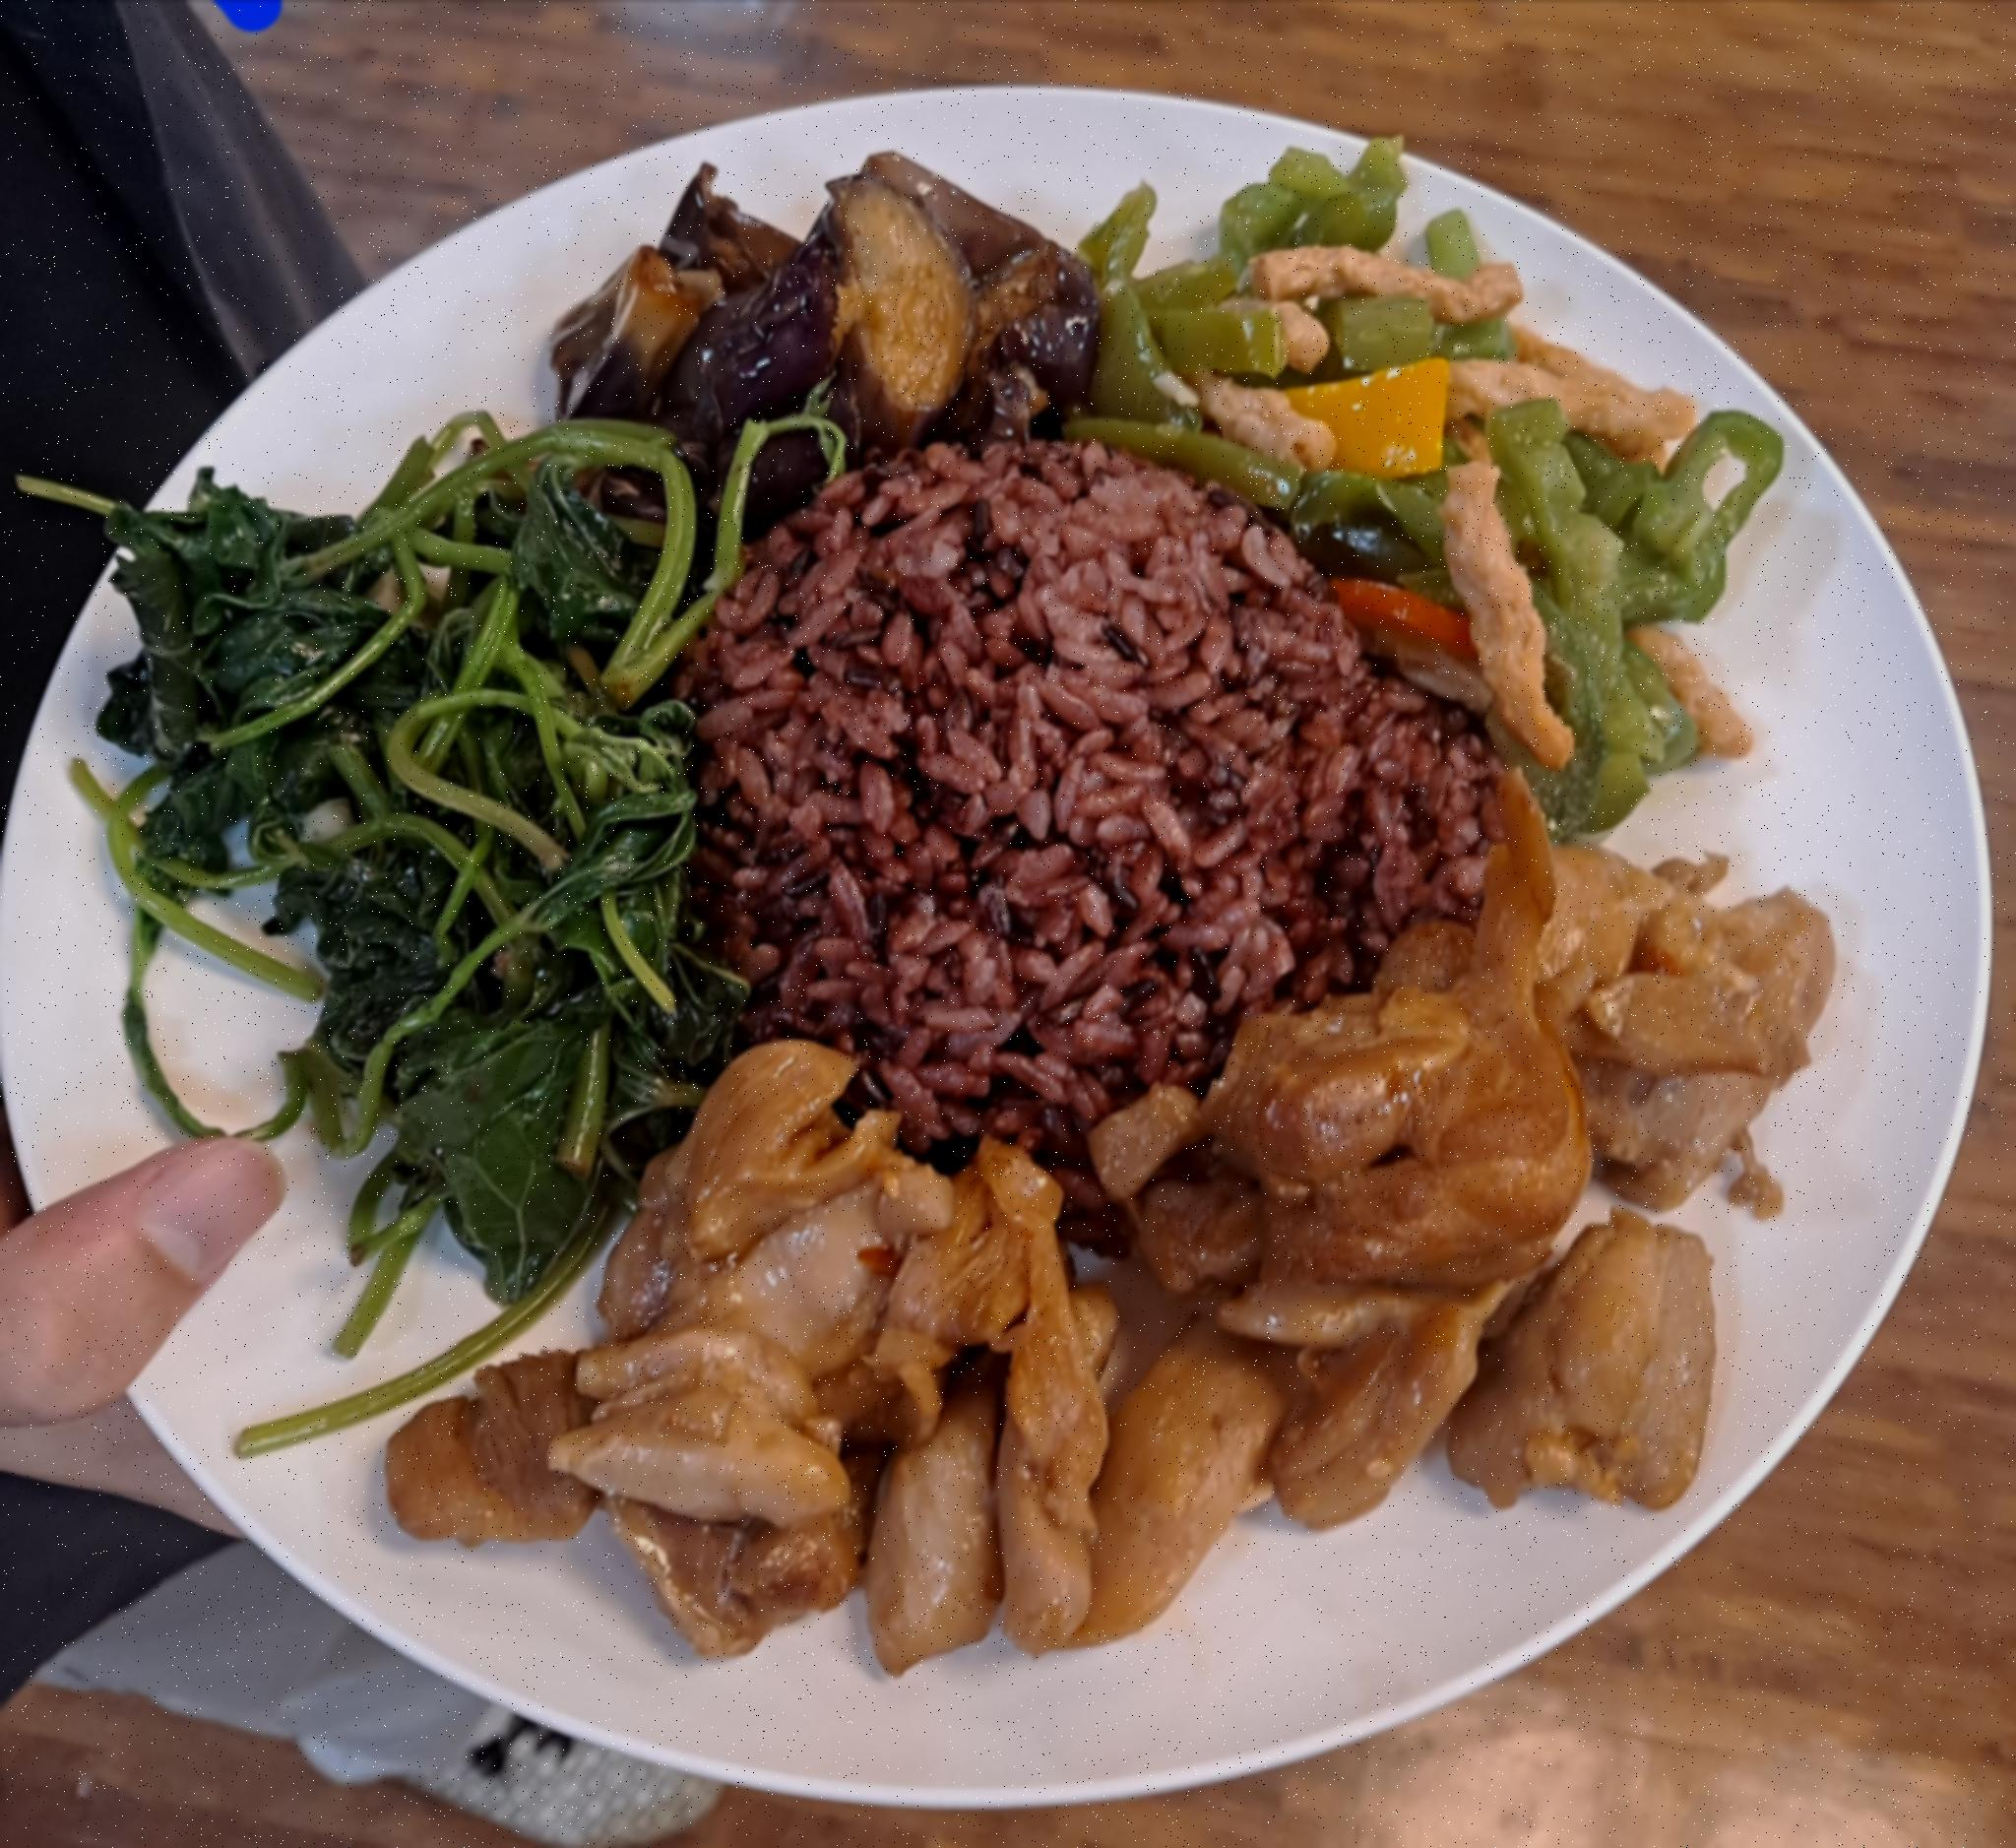big fried chicken leg: (0, 68, 1998, 1809)
braised fish: (675, 437, 1451, 1162)
braised fish fillet: (90, 401, 741, 1290), (1071, 128, 1788, 823), (566, 150, 1092, 524)
braised pork: (378, 817, 1833, 1666)
